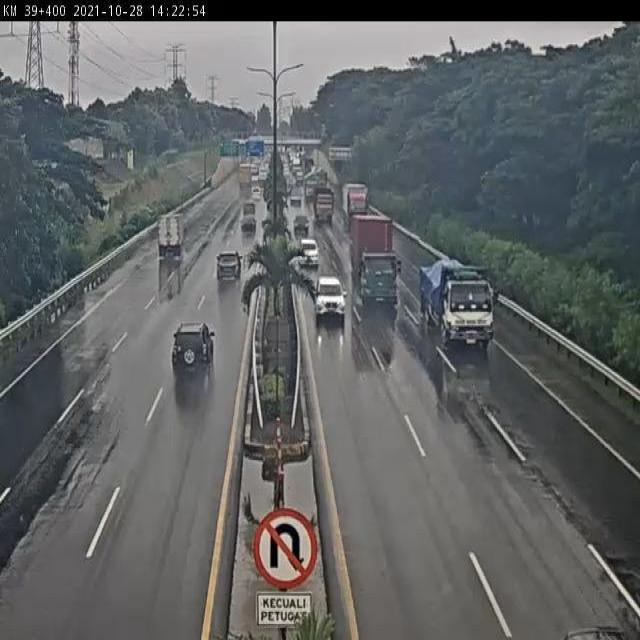truck-l-: (419, 260, 498, 356), (342, 184, 370, 231)
truck-m-: (160, 212, 188, 256)
truck-xl-: (349, 215, 402, 317)
